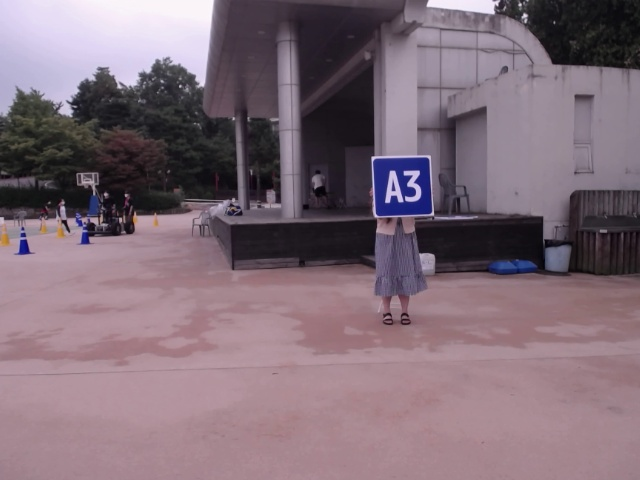delivery_a3: (373, 156, 433, 217)
